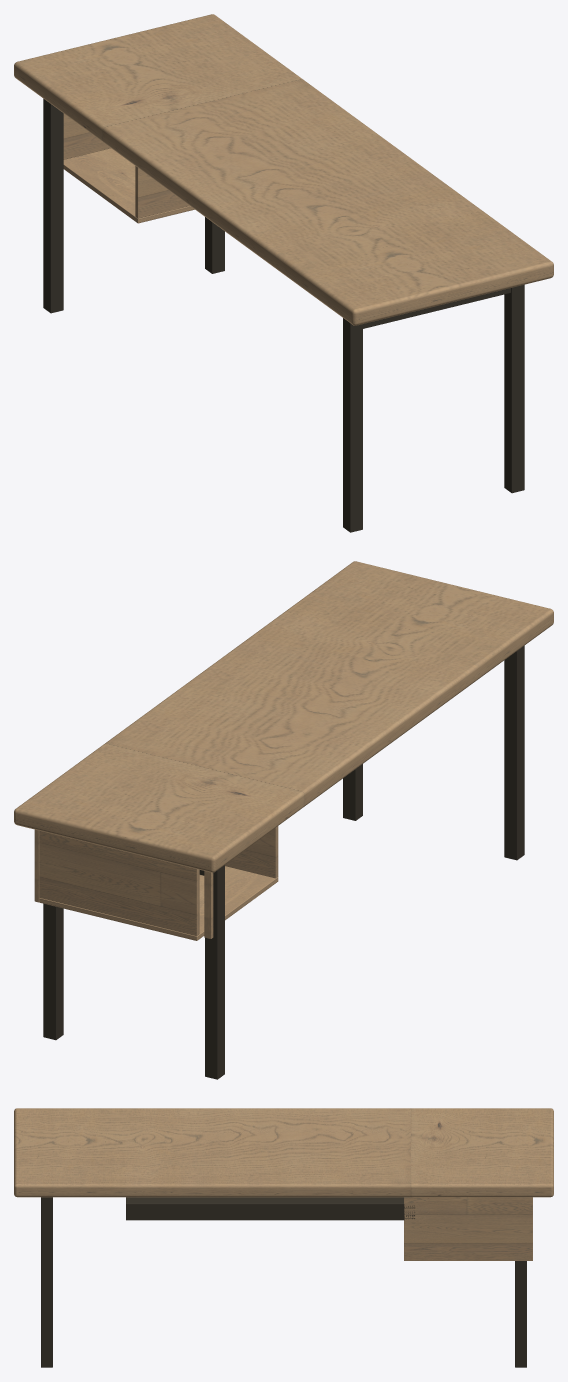
Rendered from desk_shell.glb.
3 views of the same model, one above another, from view 1: azimuth 30°, elevation 25°; view 2: azimuth 150°, elevation 25°; view 3: azimuth 270°, elevation 25° (orthographic). The views are drawn at different scales.
Visible parts, largest first — view 1: Workspace detail oak desktop, Workspace detail tapered frame leg.002, Workspace detail tapered frame leg.001, Workspace detail tapered frame leg, desk_case_bottom, desk_case_side_-0.237, desk_case_side_0.237, Workspace detail tapered frame leg.003, Workspace detail end frame rail; view 2: Workspace detail oak desktop, desk_case_side_0.237, Workspace detail tapered frame leg, Workspace detail tapered frame leg.002, desk_case_bottom, Workspace detail tapered frame leg.003, desk_case_side_-0.237, Workspace detail tapered frame leg.001, desk_leg_clearance_filler; view 3: Workspace detail oak desktop, desk_case_back, Workspace detail cable tray, Workspace detail tapered frame leg.001, Workspace detail tapered frame leg.003.
Part boxes in pixels (left/top/right/bottom): Workspace detail oak desktop: left=14, top=14, right=553, bottom=325; Workspace detail tapered frame leg.002: left=43, top=98, right=63, bottom=313; Workspace detail tapered frame leg.001: left=504, top=284, right=524, bottom=493; Workspace detail tapered frame leg: left=343, top=318, right=362, bottom=532; desk_case_bottom: left=63, top=148, right=194, bottom=223; desk_case_side_-0.237: left=135, top=166, right=189, bottom=218; desk_case_side_0.237: left=63, top=113, right=110, bottom=159; Workspace detail tapered frame leg.003: left=205, top=217, right=224, bottom=273; Workspace detail end frame rail: left=363, top=288, right=510, bottom=328; Workspace detail oak desktop: left=14, top=561, right=553, bottom=872; desk_case_side_0.237: left=39, top=830, right=199, bottom=935; Workspace detail tapered frame leg: left=504, top=645, right=524, bottom=860; Workspace detail tapered frame leg.002: left=205, top=865, right=224, bottom=1079; desk_case_bottom: left=39, top=866, right=278, bottom=940; Workspace detail tapered frame leg.003: left=43, top=903, right=63, bottom=1040; desk_case_side_-0.237: left=225, top=826, right=278, bottom=878; Workspace detail tapered frame leg.001: left=343, top=764, right=362, bottom=820; desk_leg_clearance_filler: left=204, top=871, right=213, bottom=938; Workspace detail oak desktop: left=14, top=1108, right=553, bottom=1197; desk_case_back: left=404, top=1197, right=532, bottom=1260; Workspace detail cable tray: left=126, top=1197, right=414, bottom=1220; Workspace detail tapered frame leg.001: left=41, top=1197, right=52, bottom=1367; Workspace detail tapered frame leg.003: left=515, top=1261, right=526, bottom=1367.
Bounding box in the file's own units: 0.7 × 0.7875 × 2.05.
2 materials, 1 textured.
